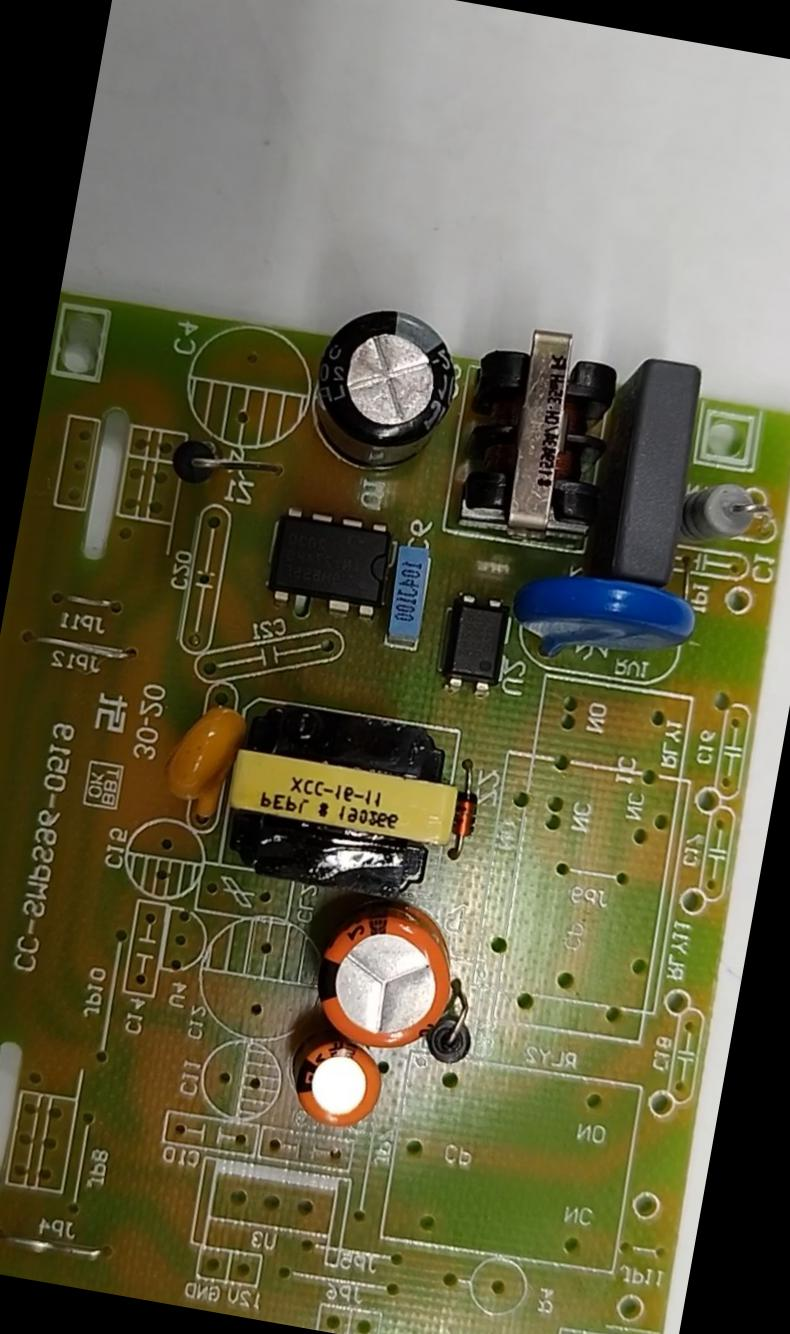Cap1: (308, 905, 458, 1055)
Cap2: (290, 1041, 384, 1135)
Cap3: (309, 300, 460, 478)
MOSFET: (265, 503, 395, 620)
Mov: (520, 564, 700, 674)
Resistor: (686, 478, 766, 552)
Transformer: (222, 690, 470, 901), (461, 321, 621, 533)
